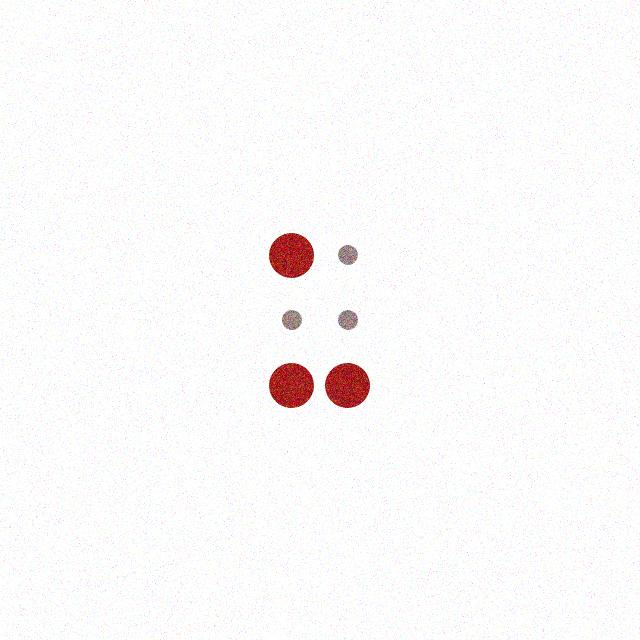U: (263, 228, 372, 413)
